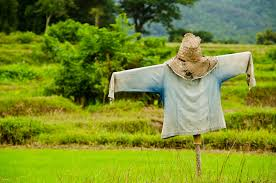person-like: (105, 30, 257, 141)
